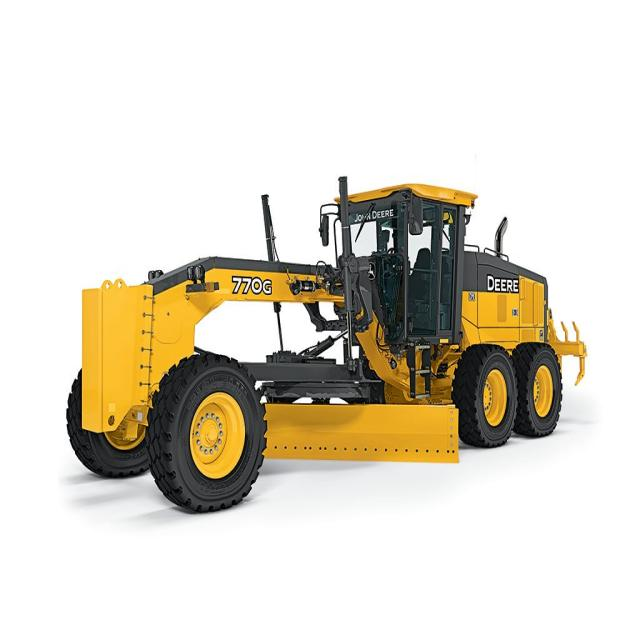buldozerpayloadergrader: (73, 144, 590, 492)
